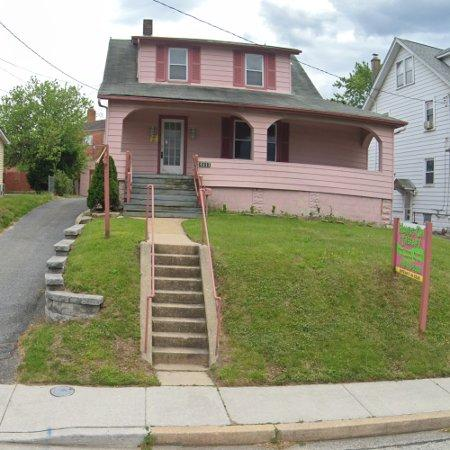stairs: (153, 245, 209, 368), (124, 176, 201, 218)
